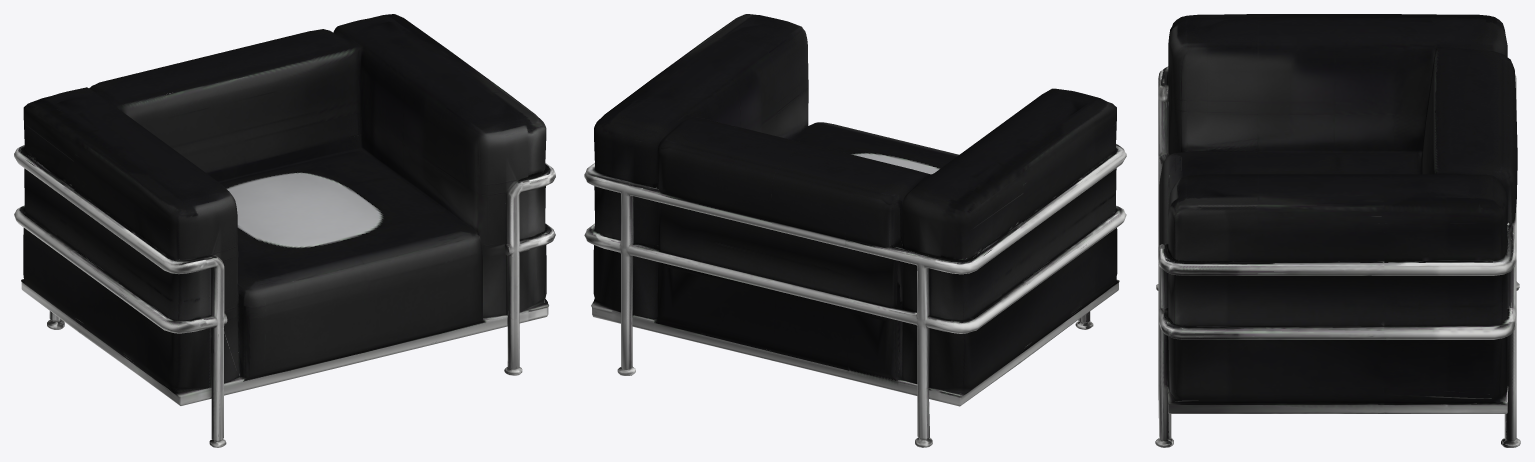
File: Chair_Club_Black_Leather_32InchesTall_0222191541_texture.glb
3 renders of one model, left to right at view 1: azimuth 30°, elevation 25°; view 2: azimuth 150°, elevation 25°; view 3: azimuth 270°, elevation 25°, orthographic. The views are drawn at different scales.
Visible parts, largest first — view 1: Mesh_0; view 2: Mesh_0; view 3: Mesh_0.
Boxes of the visible parts, x1=… form: Mesh_0: x1=14, y1=14, x2=555, y2=447; Mesh_0: x1=584, y1=14, x2=1126, y2=447; Mesh_0: x1=1155, y1=14, x2=1520, y2=447.
Bounding box in the file's own units: 1.36 × 0.8128 × 1.03.
1 material, 1 textured.
